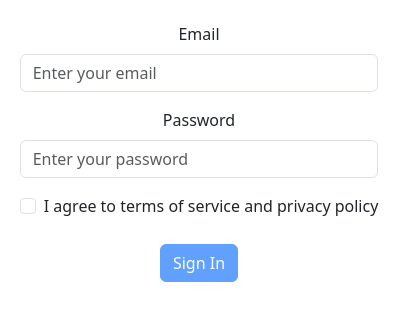
Test: Login Form Test › Email yanlış girildiğinde hata mesajı geliyor mu?
Type "abc@abc" into the field named "email" at (200,73), box [20,54,379,92]
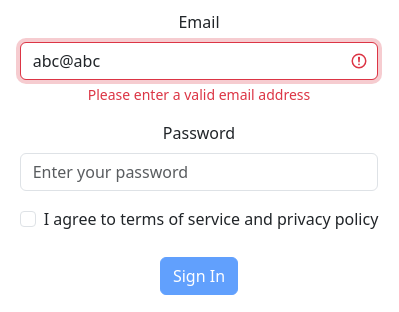
Check: the button "Sign In" is disabled, box [160,257,238,295]
Check: the number of elements with class "invalid-feedback" is 1, box [88,85,311,104]
Check: the text "Please enter a valid email address" is shown, box [88,84,310,104]
